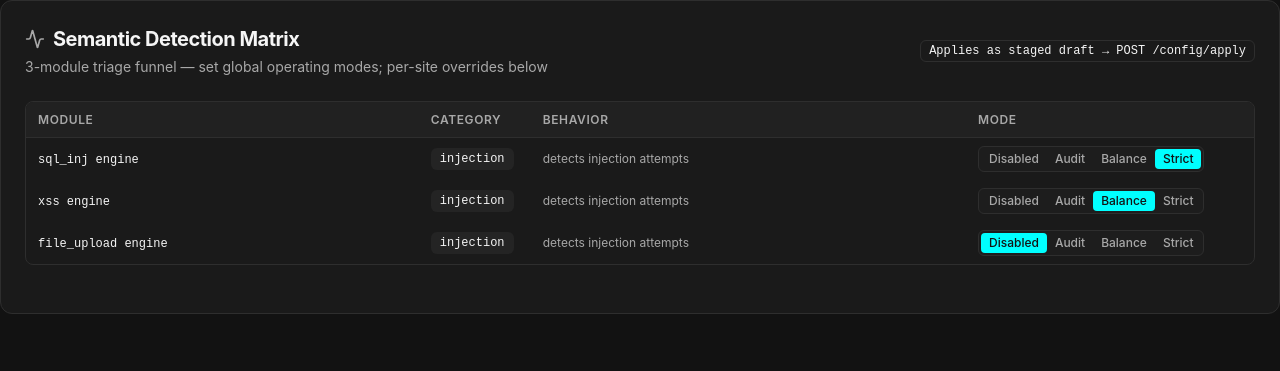
Test case: SemanticsView.vue (Task 82) › reverts the optimistic mode on API failure and surfaces the error
This screenshot has width=1280, height=371.
Click the radio button with test id "mode-audit" at coordinates (1070, 201), box [1047, 191, 1093, 211]
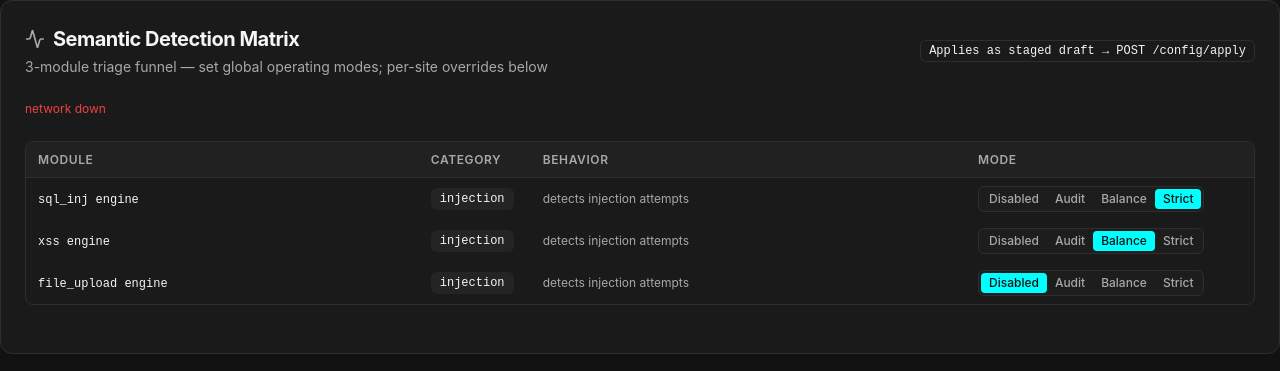
Expected: the radio button with test id "mode-balance" reads "Balance", [1093, 231, 1155, 251]
Expected: the text with test id "matrix-error" reads "network down", [25, 101, 106, 116]
